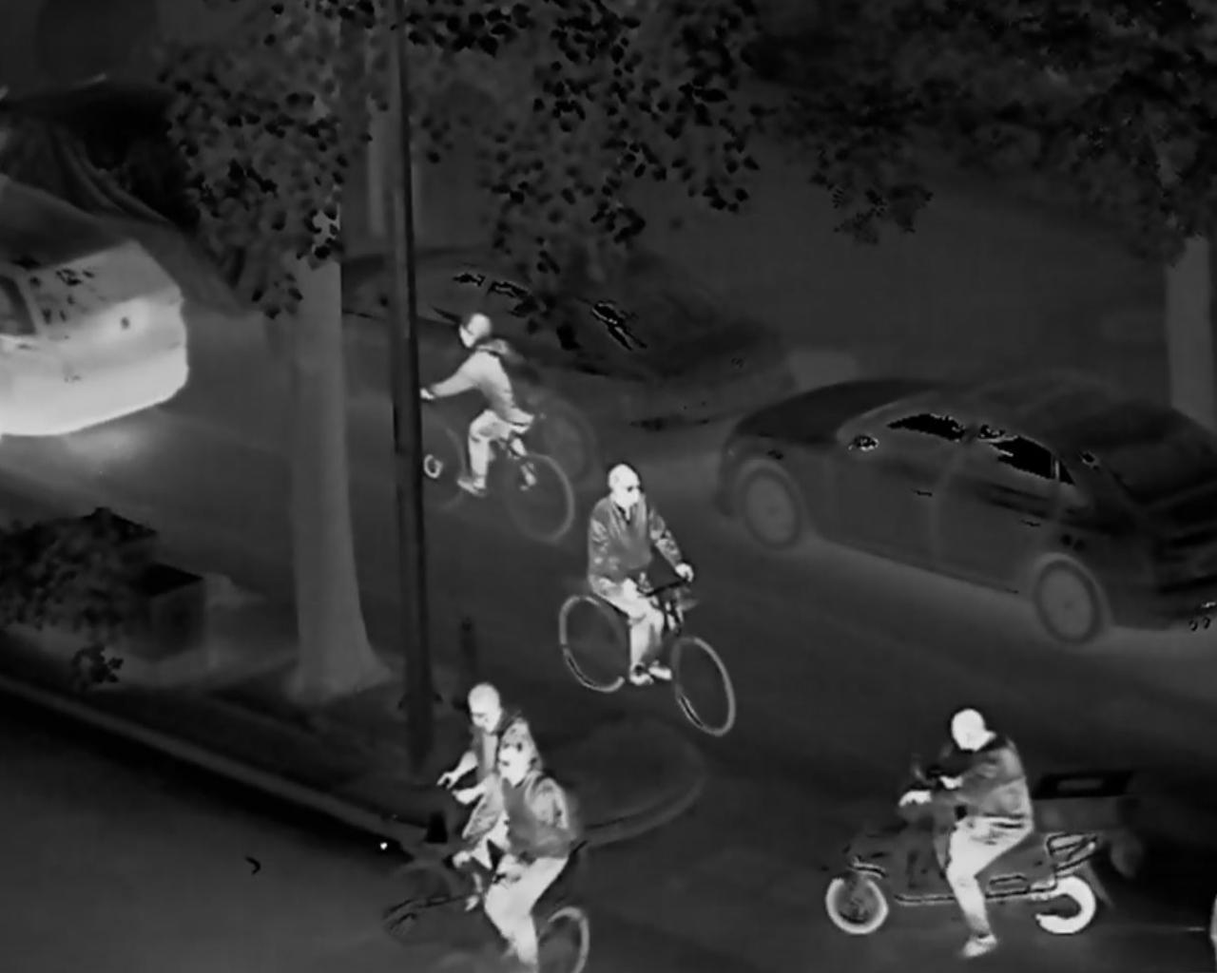person: (578, 434, 699, 722), (922, 706, 1046, 973), (418, 304, 551, 505), (490, 719, 570, 973), (442, 663, 529, 882)
